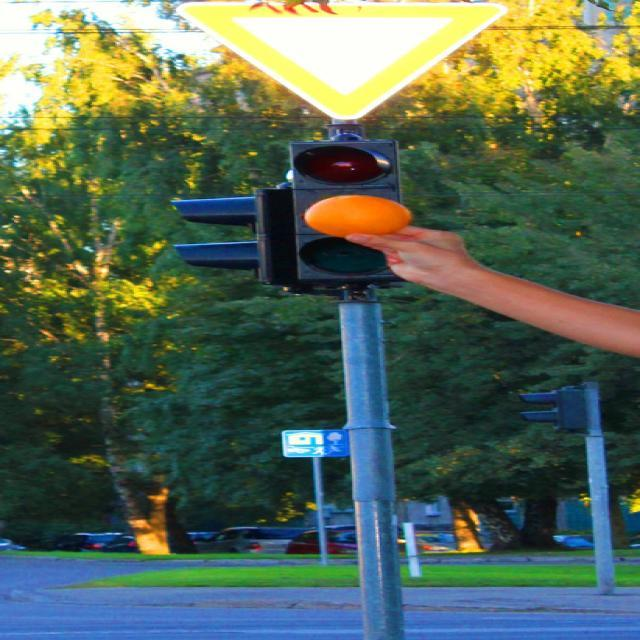off traffic light: (170, 189, 282, 285), (519, 385, 593, 434)
road_sign: (177, 4, 507, 118)
traffic light: (285, 132, 403, 297)
